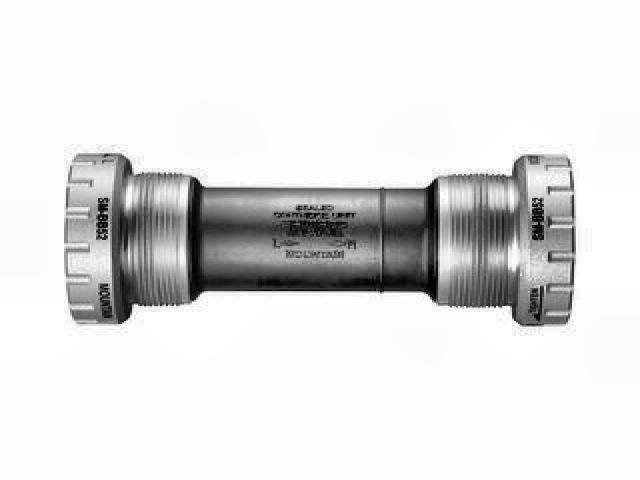bottom_bracket: (58, 149, 581, 329)
